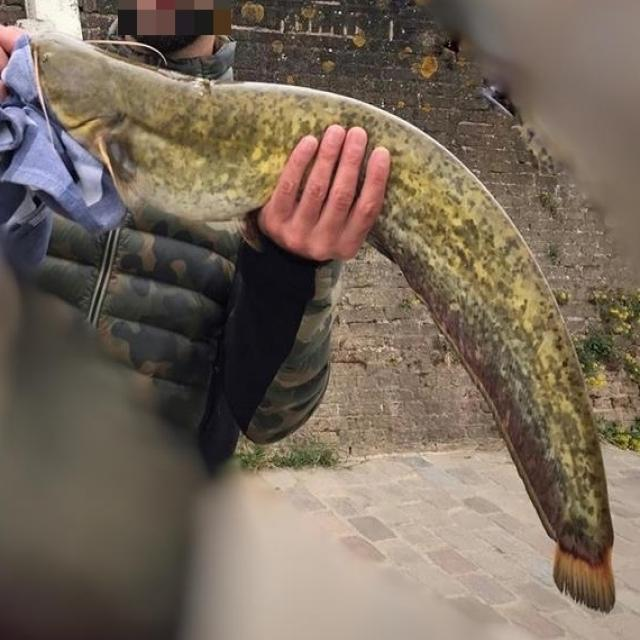Catfish: (12, 15, 638, 640)
